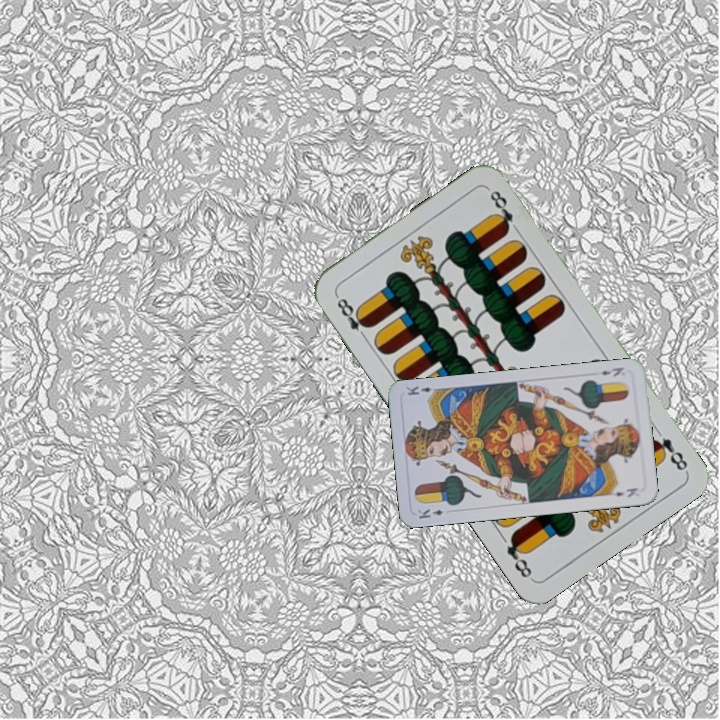E8: (332, 291, 374, 343), (646, 434, 691, 474)
EK: (414, 505, 445, 521), (597, 363, 626, 379)
